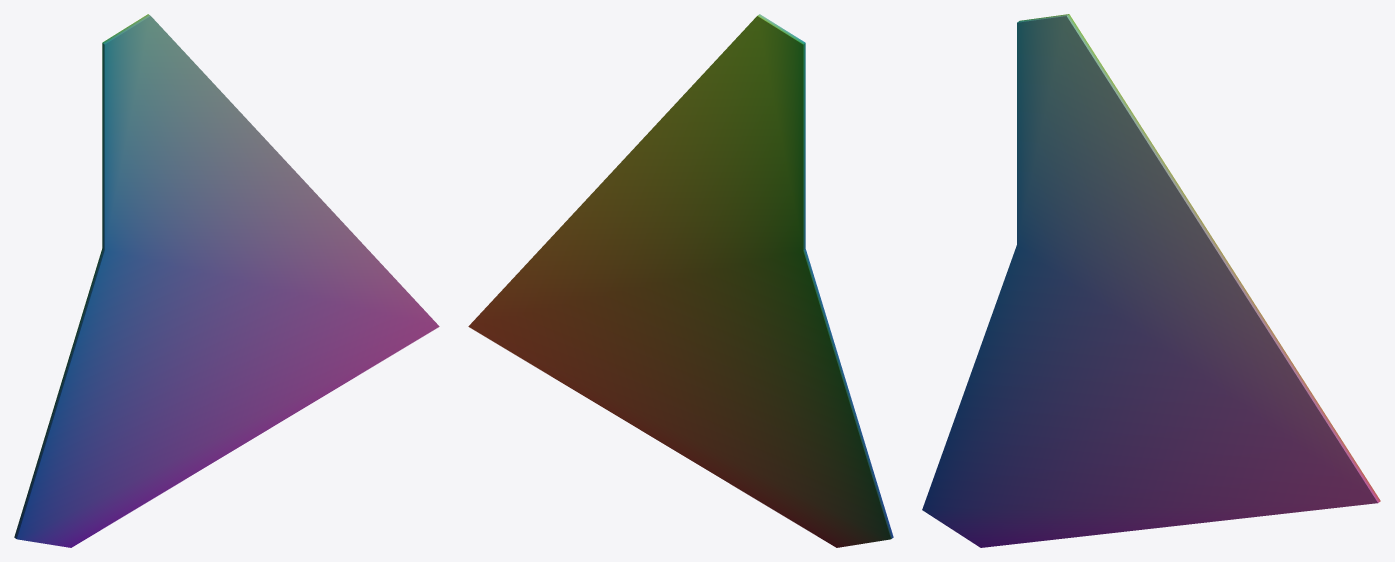
The model's file is zeometry-flat-shapes-flat-shard_v3.glb.
The picture shows the model from 3 angles, left to right: view 1: azimuth 30°, elevation 25°; view 2: azimuth 150°, elevation 25°; view 3: azimuth 330°, elevation 25°; orthographic projection. The views are drawn at different scales.
Visible parts, largest first — view 1: Flat Shard_v3; view 2: Flat Shard_v3; view 3: Flat Shard_v3.
Part boxes in pixels (box(x1,y1,x2,y2)): Flat Shard_v3: box(14, 14, 439, 547); Flat Shard_v3: box(468, 14, 893, 547); Flat Shard_v3: box(922, 14, 1380, 547).
Bounding box in the file's own units: 0.4316 × 0.5 × 0.00453.
